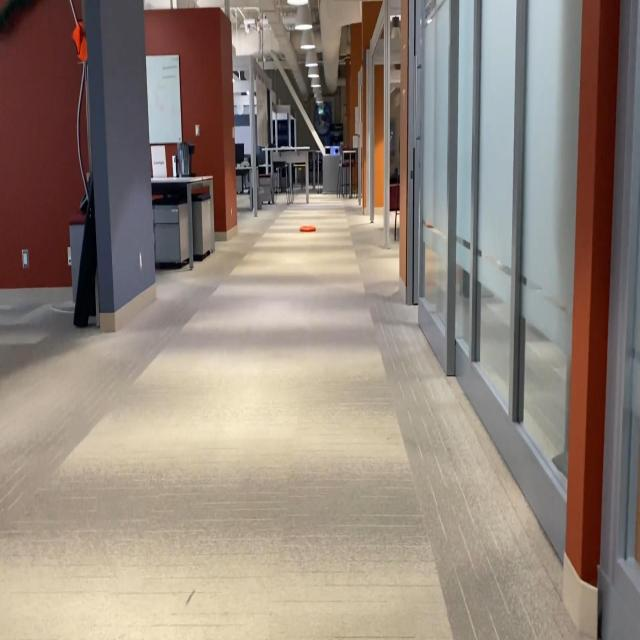note: (299, 223, 316, 234)
